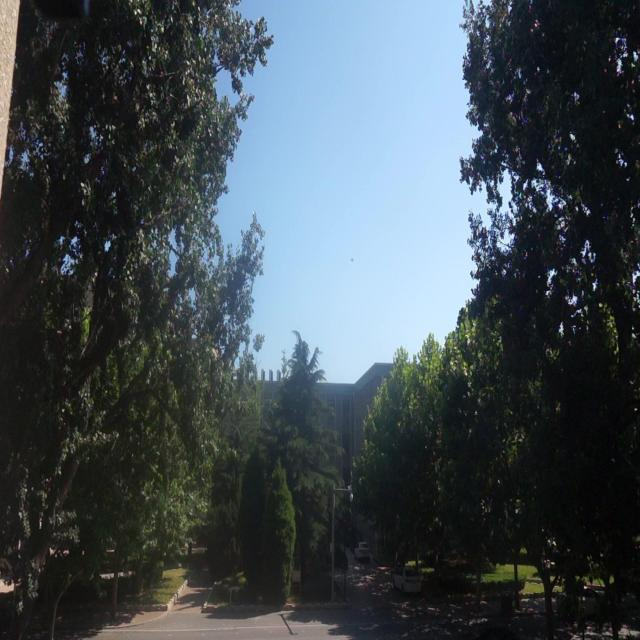drone: (348, 252, 356, 267)
